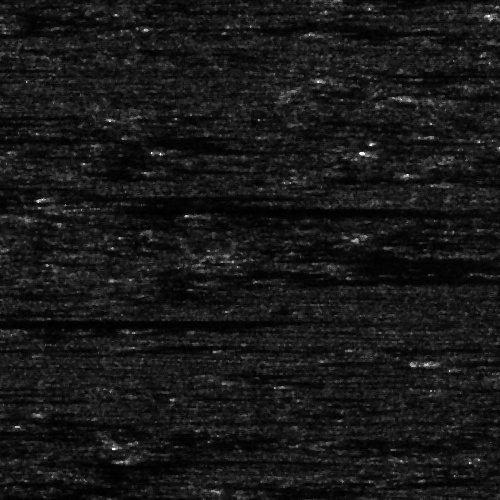object: (58, 205, 141, 214), (100, 454, 141, 463)
shadow: (99, 205, 500, 214), (0, 191, 209, 208), (120, 454, 290, 463), (0, 120, 22, 123)
